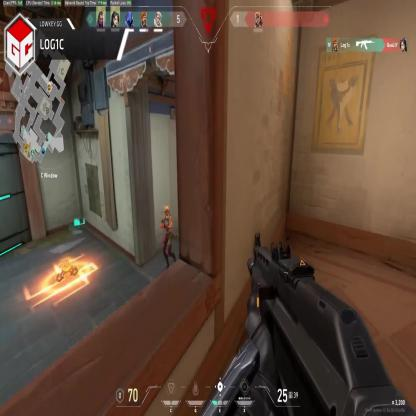enemy: (159, 204, 176, 270)
enemy_head: (164, 206, 170, 218)
